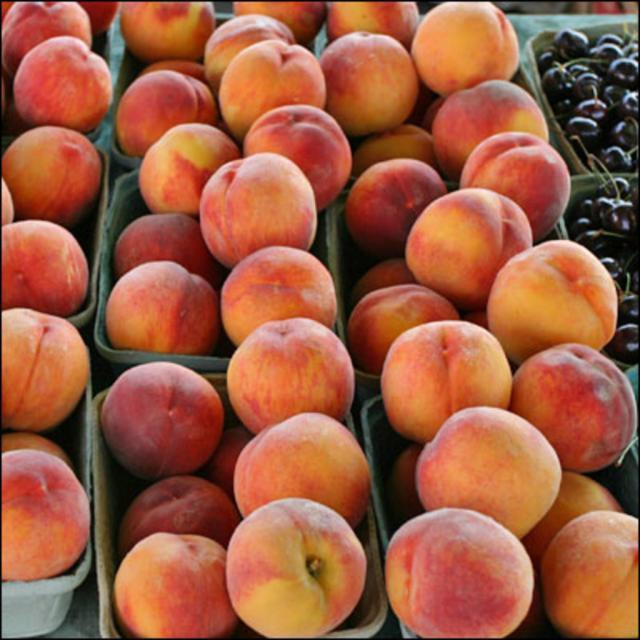Peach: (0, 0, 638, 638), (0, 0, 638, 638), (93, 359, 223, 477)
